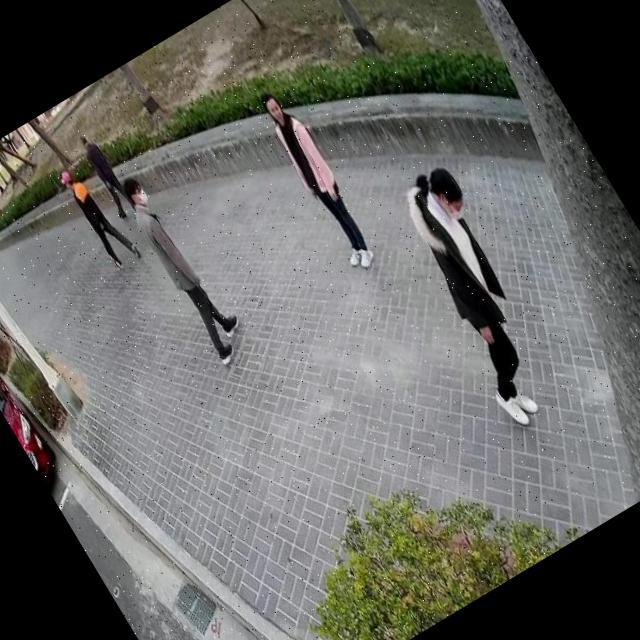person: (370, 151, 590, 437), (107, 158, 260, 372), (248, 76, 390, 278), (53, 150, 149, 277), (70, 123, 144, 225)
